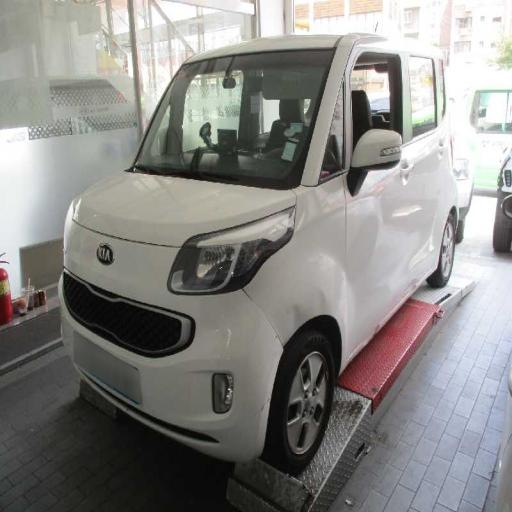dent: (268, 238, 362, 359), (362, 188, 460, 273)
